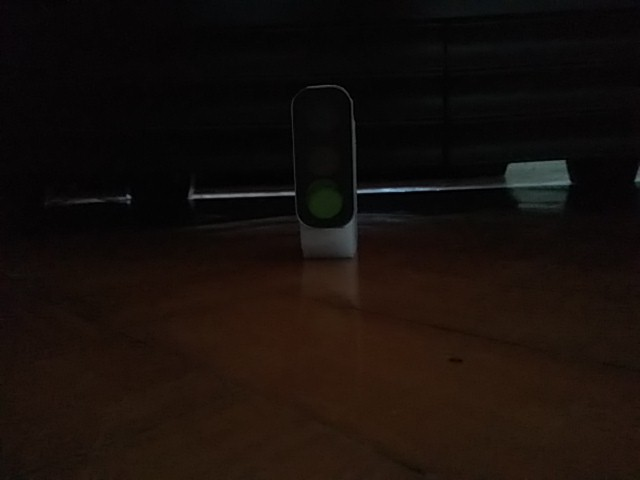Green Traffic Light: (292, 85, 356, 230)
